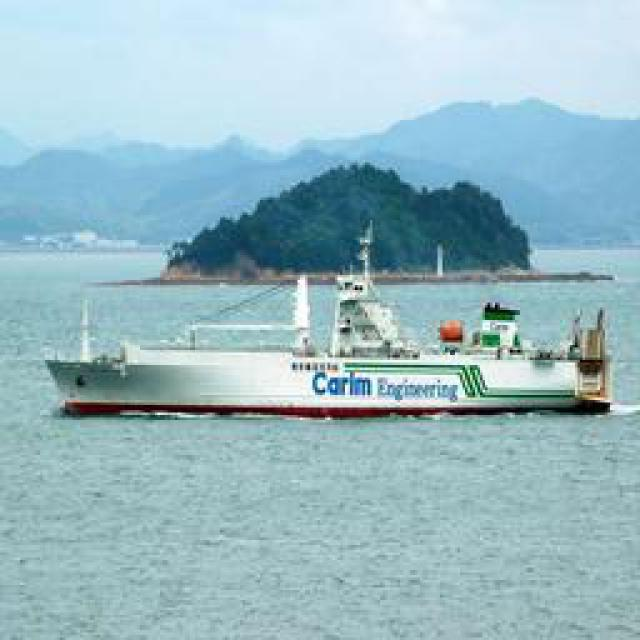Ship: (26, 254, 626, 419)
